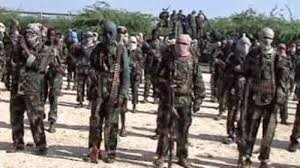terrorist: (84, 17, 129, 52), (13, 21, 53, 59), (167, 30, 203, 66), (249, 24, 284, 55), (237, 35, 257, 59), (128, 35, 144, 54), (66, 30, 80, 46)
